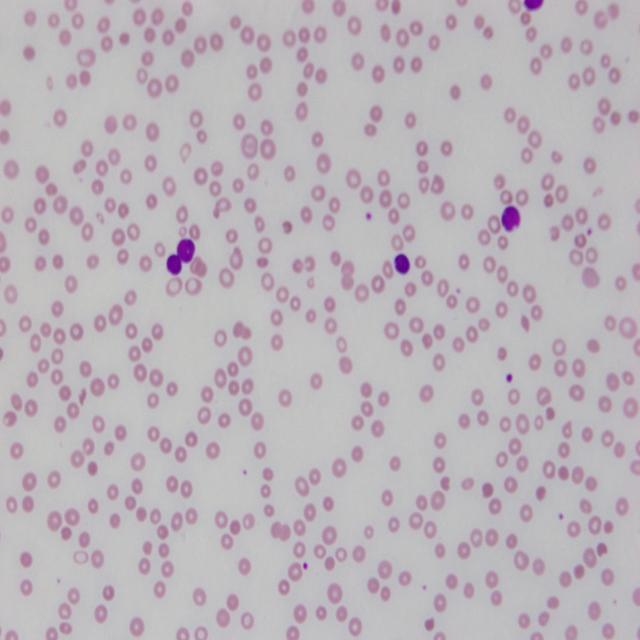cell: (501, 207, 520, 232), (178, 238, 195, 262), (394, 253, 410, 273), (166, 255, 181, 275)
